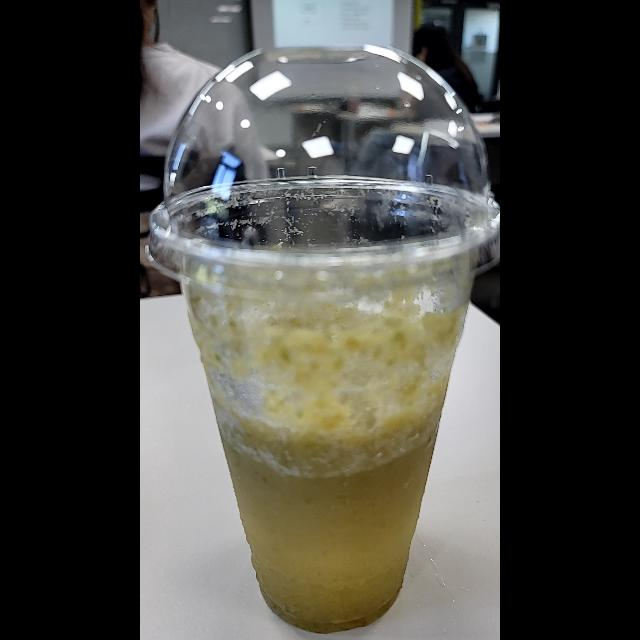plastic_cup: (148, 34, 500, 632)
plastic_cup_lid: (140, 38, 500, 304)
